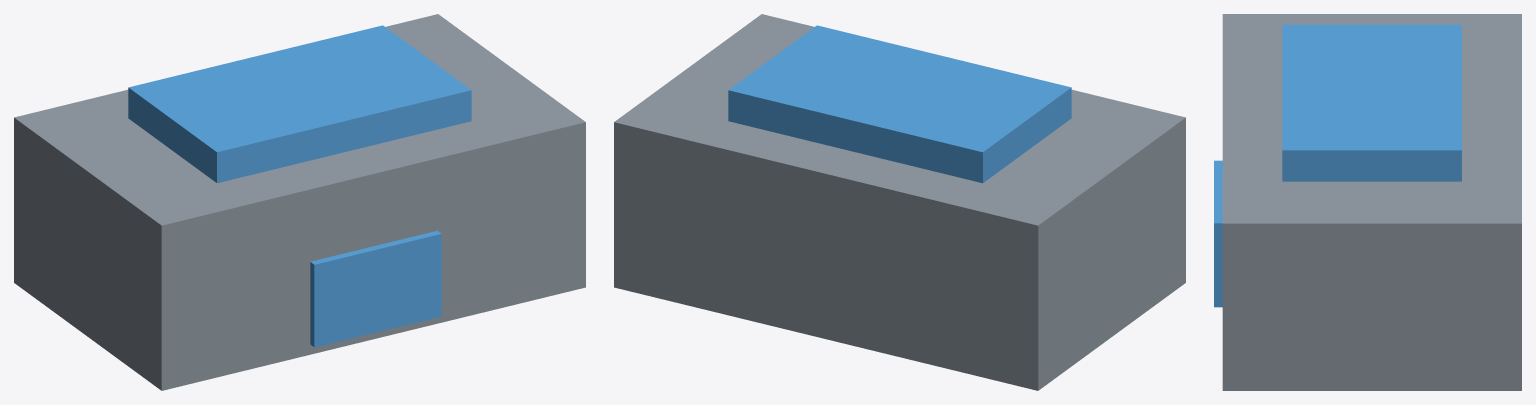
The model's file is AL_PioneerHarvester_LOD0.glb.
3 renders of one model, left to right at view 1: azimuth 30°, elevation 25°; view 2: azimuth 150°, elevation 25°; view 3: azimuth 270°, elevation 25°, orthographic.
Parts seen in each view (by area): view 1: EntranceGate; view 2: EntranceGate; view 3: EntranceGate.
Boxes of the visible parts, box(x1,y1,x2,y2) form: EntranceGate: box(14, 14, 585, 390); EntranceGate: box(614, 14, 1185, 390); EntranceGate: box(1214, 14, 1521, 390).
Bounding box in the file's own units: 580 × 257 × 360.
